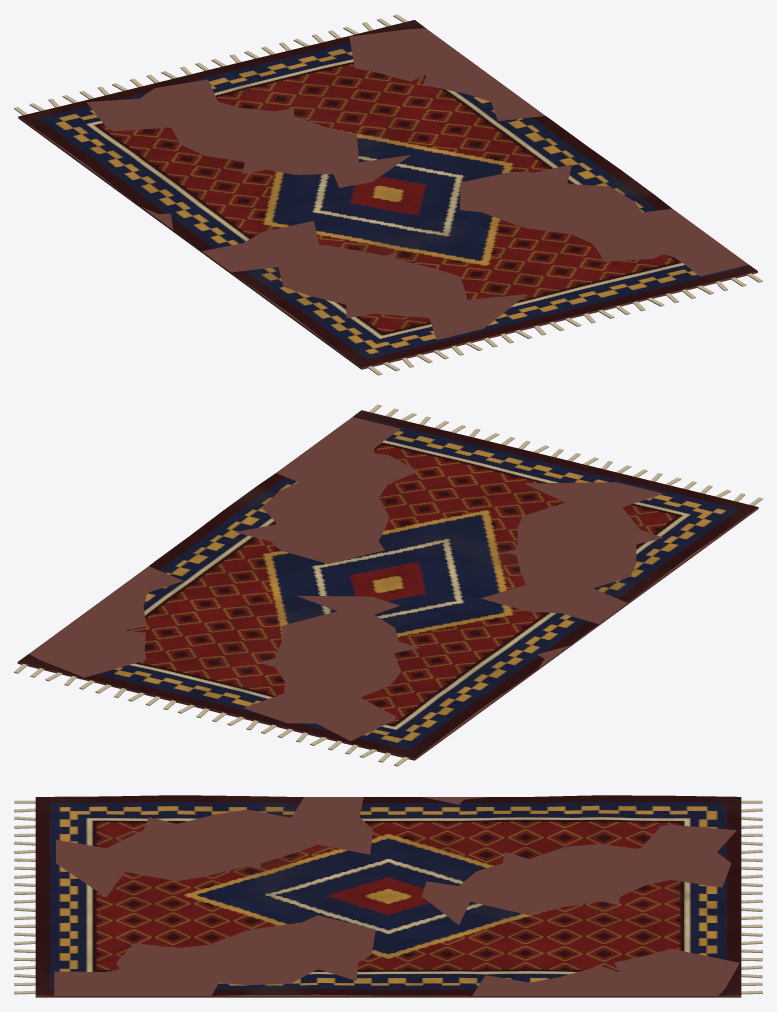
Rendered from ritual_rug.glb.
The picture shows the model from 3 angles, top to bottom: view 1: azimuth 30°, elevation 25°; view 2: azimuth 150°, elevation 25°; view 3: azimuth 270°, elevation 25°; orthographic projection. The views are drawn at different scales.
Parts seen in each view (by area): view 1: ritual_rug; view 2: ritual_rug; view 3: ritual_rug.
Boxes of the visible parts, x1=… form: ritual_rug: x1=14, y1=14, x2=762, y2=375; ritual_rug: x1=14, y1=404, x2=762, y2=766; ritual_rug: x1=14, y1=795, x2=762, y2=997.
Bounding box in the file's own units: 2.4 × 0.0236 × 3.82.
3 materials, 1 textured.
